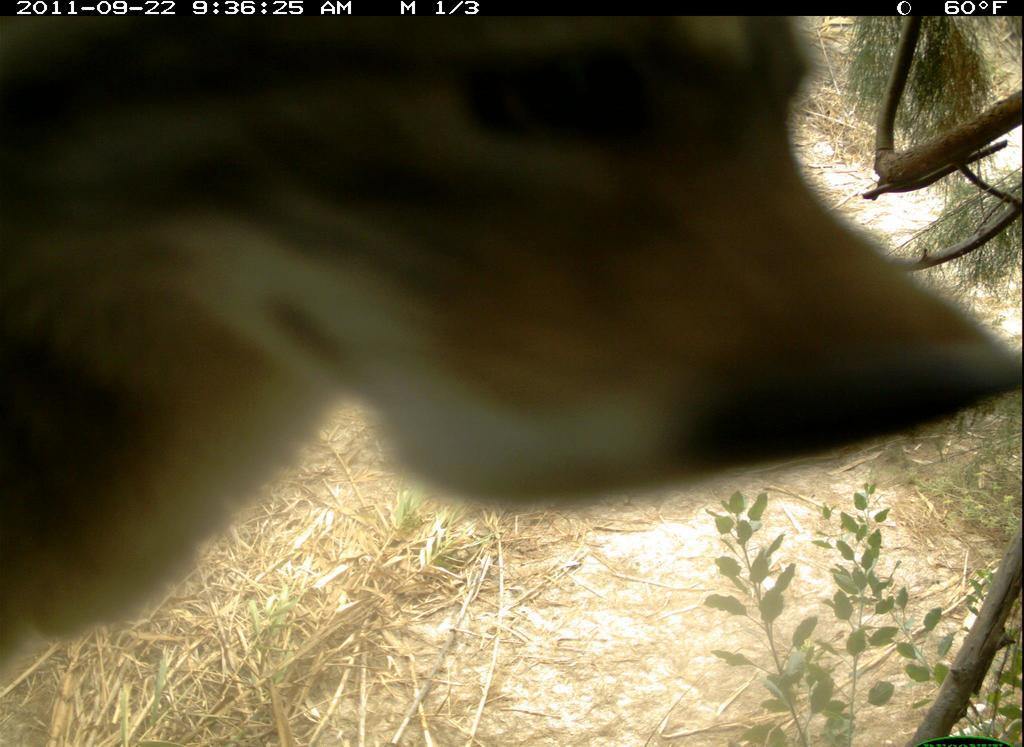coyote: (6, 17, 1023, 702)
